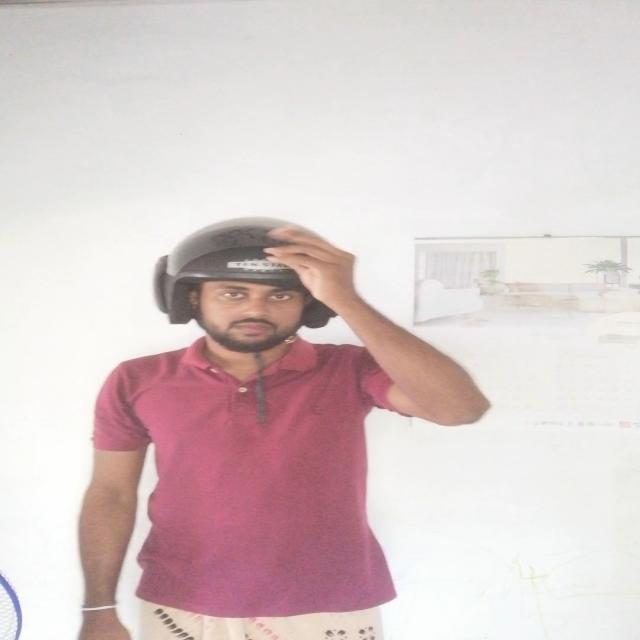Helmet_Wearer: (129, 208, 375, 357)
